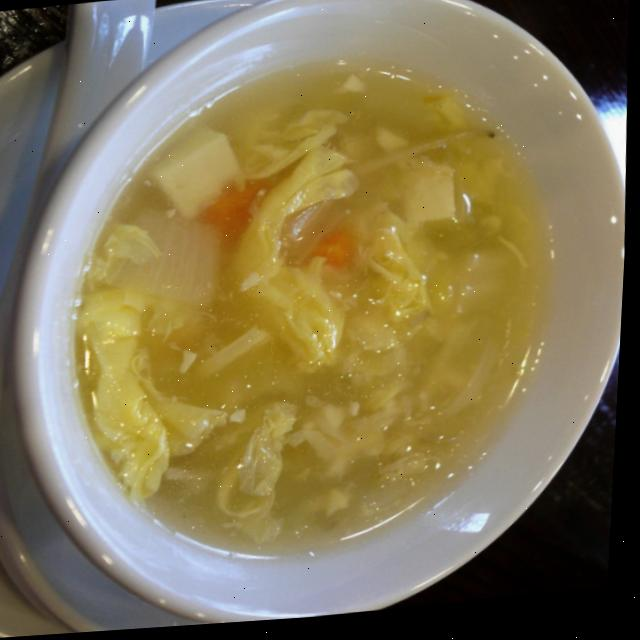汤锅炖物: (9, 0, 630, 630)
